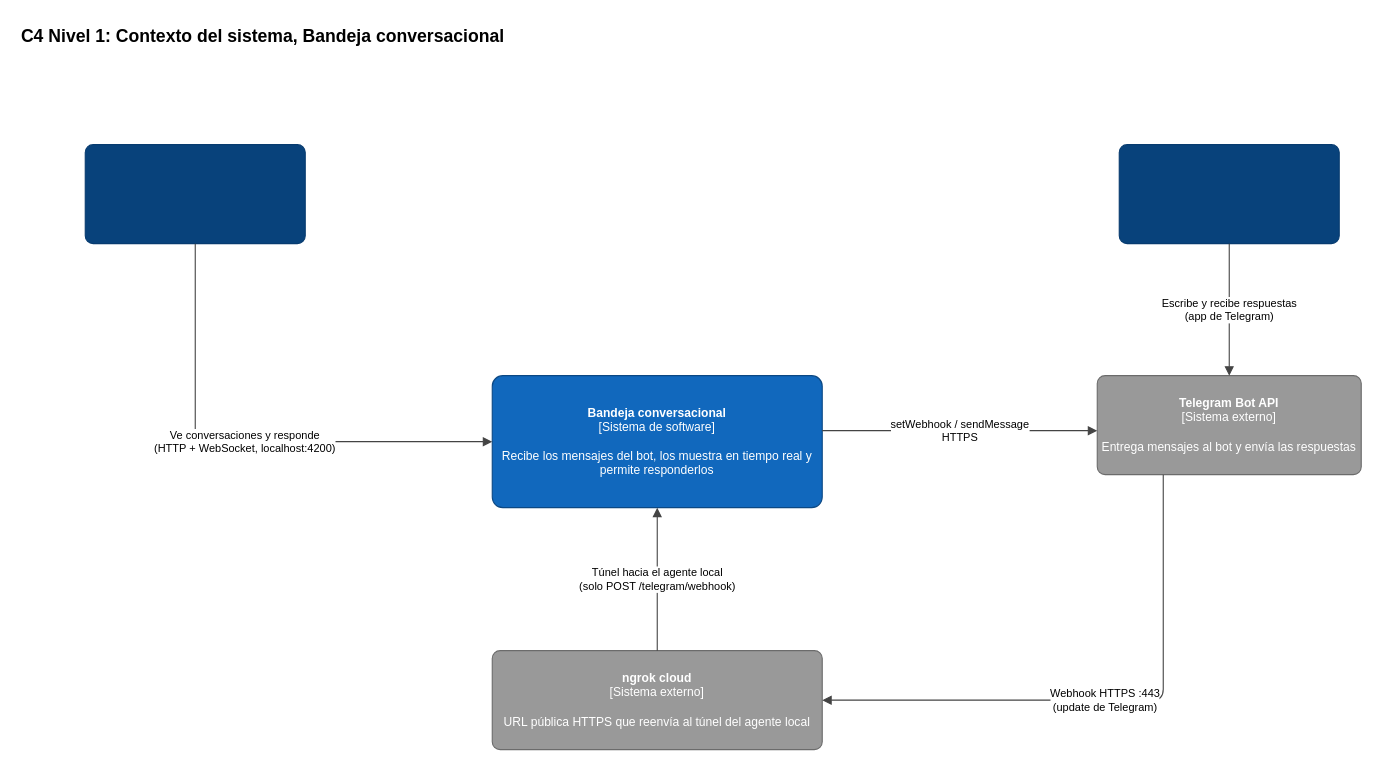
Image size: 1381x769. Some labels were removed from this diagram. The shapes that lost their labels are listed below. From the top down, each one's centre as x and y in pixels, then its label:
At (194,194): "Operador [Persona] Atiende a los clientes desde la bandeja web".
At (1228,194): "Usuario de Telegram [Persona] Cliente que escribe al bot de la empresa".
